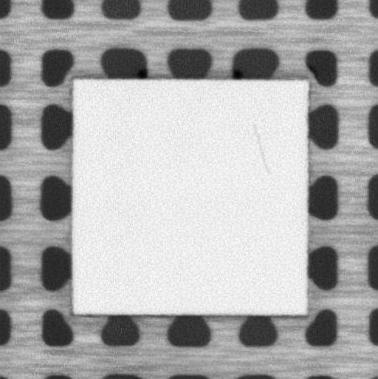DIE_CRACK: (252, 121, 272, 177)
